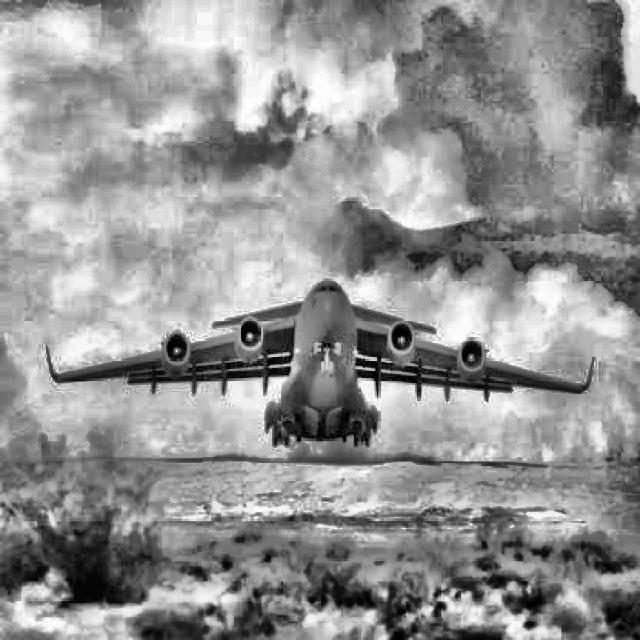C17: (46, 278, 594, 448)
